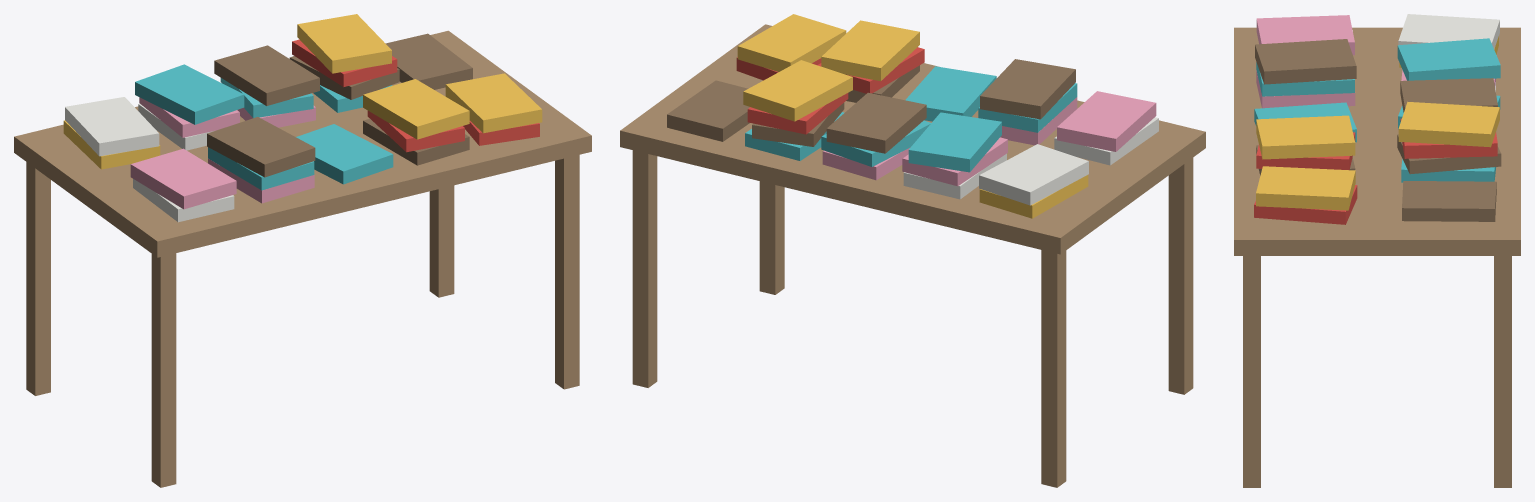
The model's file is book_table.glb.
The picture shows the model from 3 angles, left to right: view 1: azimuth 30°, elevation 25°; view 2: azimuth 150°, elevation 25°; view 3: azimuth 270°, elevation 25°; orthographic projection.
Visible parts, largest first — view 1: book_table; view 2: book_table; view 3: book_table.
Boxes of the visible parts, x1,y1,x2,y2 form: book_table: (14, 14, 591, 487); book_table: (620, 14, 1205, 487); book_table: (1234, 14, 1520, 487).
Size of the model in its own units: 1.4 by 0.94 by 0.8.
